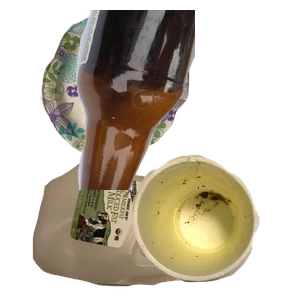glass: (60, 10, 300, 190)
paper: (37, 10, 219, 167)
plastic: (30, 159, 247, 300)
trash: (129, 152, 300, 300)
